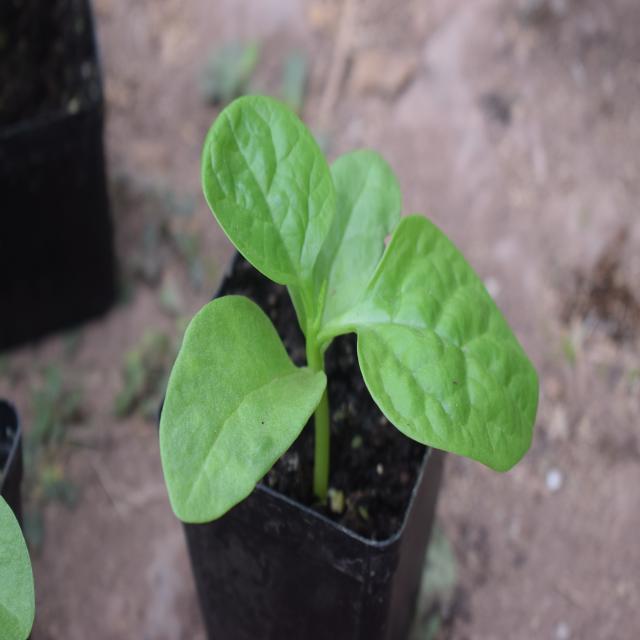Ceylon spinach: (171, 116, 543, 515)
